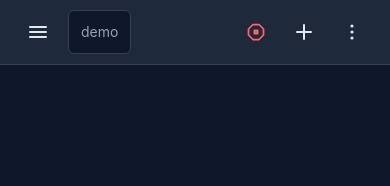
Test case: PrimaryNav › opens every destination behind the burger, so nothing becomes unreachable
This screenshot has width=390, height=186.
Click the button named "Navigation" at [38, 32], box [16,10,60,54]
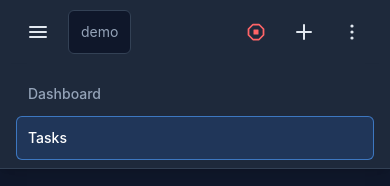
Check: the element showing "Dashboard Tasks" is shown, box [0,64,389,169]
Check: the text "Dashboard" is shown, box [28,84,101,104]
Check: the text "Tasks" is shown, box [28,128,67,148]
